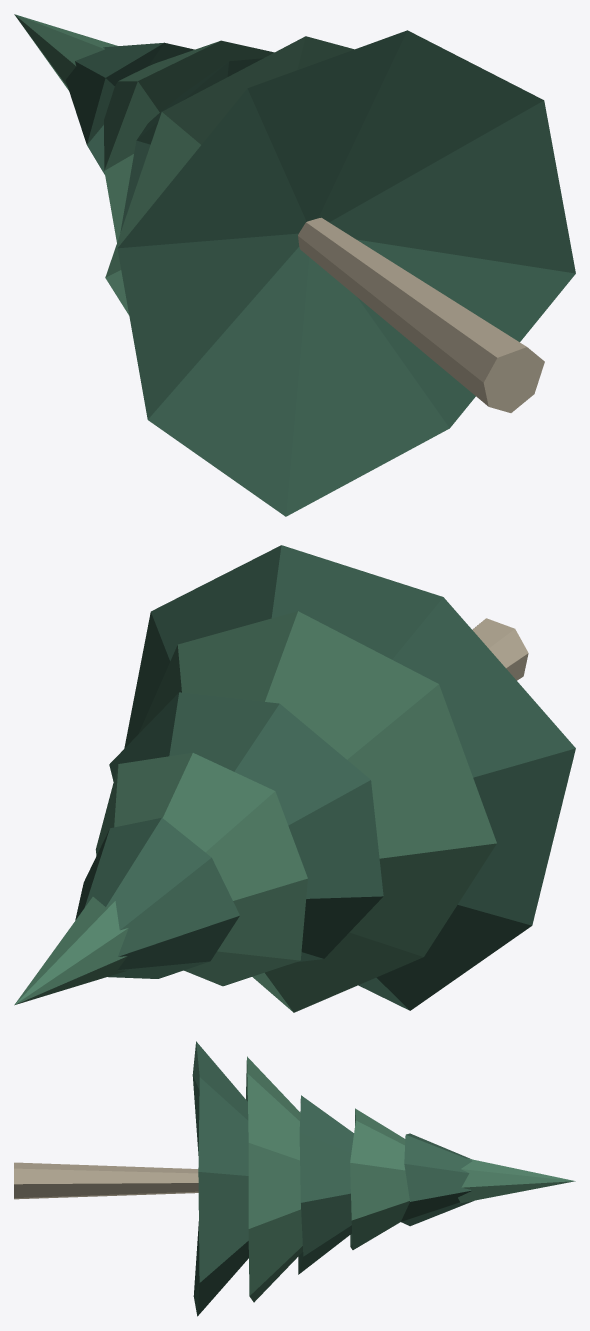
The model's file is TreeConiferD4.fbx.
3 renders of one model, top to bottom at view 1: azimuth 30°, elevation 25°; view 2: azimuth 150°, elevation 25°; view 3: azimuth 270°, elevation 25°, orthographic. The views are drawn at different scales.
Visible parts, largest first — view 1: M_Tree_Pine_Dark, M_Tree_Pine_Mid, M_Tree_PaleWood; view 2: M_Tree_Pine_Dark, M_Tree_Pine_Mid, M_Tree_PaleWood; view 3: M_Tree_Pine_Dark, M_Tree_Pine_Mid, M_Tree_PaleWood.
Boxes of the visible parts, x1,y1,x2,y2 form: M_Tree_Pine_Dark: [65, 30, 575, 516]; M_Tree_Pine_Mid: [14, 14, 354, 315]; M_Tree_PaleWood: [298, 217, 544, 412]; M_Tree_Pine_Dark: [75, 545, 575, 1010]; M_Tree_Pine_Mid: [14, 611, 496, 1012]; M_Tree_PaleWood: [472, 618, 528, 680]; M_Tree_Pine_Dark: [192, 1041, 473, 1316]; M_Tree_Pine_Mid: [246, 1056, 575, 1302]; M_Tree_PaleWood: [14, 1162, 198, 1199].
Bounding box in the file's own units: 22.35 × 20.76 × 41.59.
